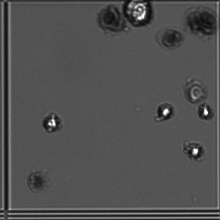Dead Cell: (183, 6, 220, 43), (95, 3, 131, 39), (182, 77, 211, 106), (25, 168, 50, 193), (160, 28, 184, 52)
Living Cell: (122, 1, 154, 33), (41, 110, 66, 135), (153, 100, 177, 124), (182, 139, 205, 162), (195, 101, 217, 123)
